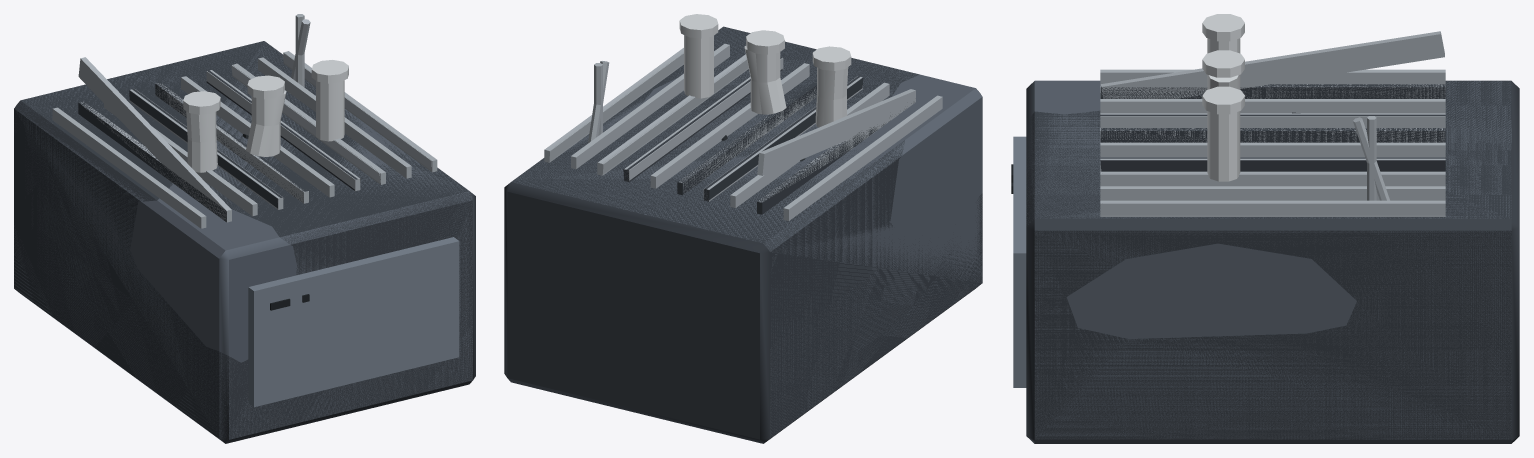
The model's file is shr_cmp_relay_unit_a.glb.
The picture shows the model from 3 angles, left to right: view 1: azimuth 30°, elevation 25°; view 2: azimuth 150°, elevation 25°; view 3: azimuth 270°, elevation 25°; orthographic projection. The views are drawn at different scales.
Parts seen in each view (by area): view 1: mesh_intact, mesh_heavy, mesh_light; view 2: mesh_heavy, mesh_intact, mesh_light; view 3: mesh_heavy, mesh_intact, mesh_light.
Boxes of the visible parts, left/top/right/bottom form: mesh_intact: left=14, top=14, right=472, bottom=439; mesh_heavy: left=14, top=19, right=475, bottom=443; mesh_light: left=78, top=57, right=384, bottom=219; mesh_heavy: left=504, top=14, right=982, bottom=443; mesh_intact: left=512, top=27, right=982, bottom=437; mesh_light: left=597, top=55, right=915, bottom=175; mesh_heavy: left=1011, top=14, right=1519, bottom=443; mesh_intact: left=1013, top=38, right=1511, bottom=439; mesh_light: left=1101, top=31, right=1445, bottom=186.
Size of the model in its own units: 0.4 by 0.404 by 0.5903.
